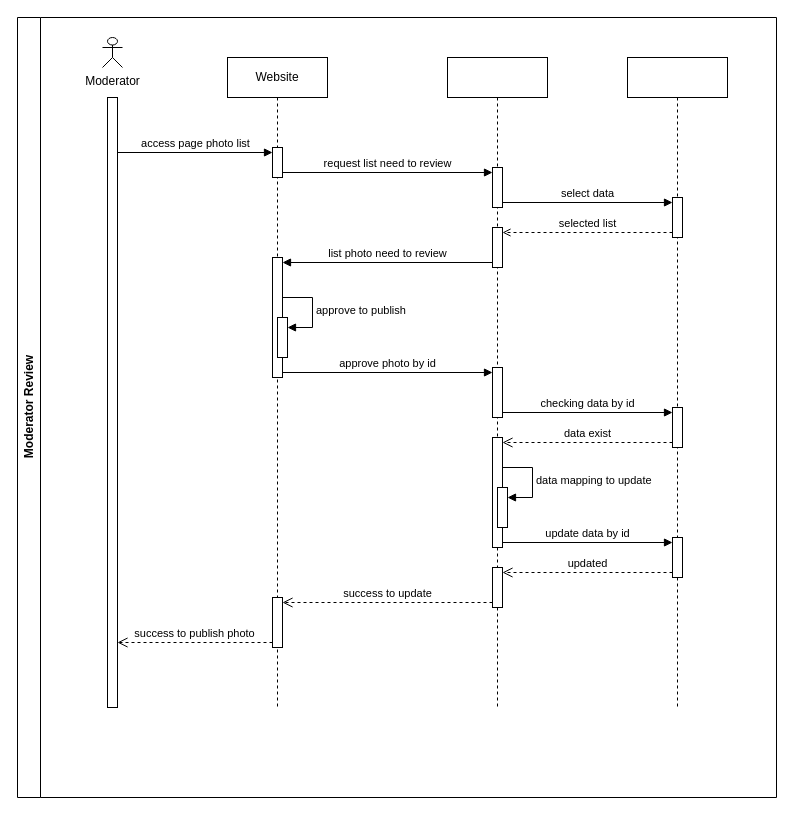
This 794x815 diagram has some shape labels left out. Here are the shapes that lost their labels. From the top down, the centre of each, then its label:
the point at 497,382: Backend Service
the point at 677,382: Server Database
